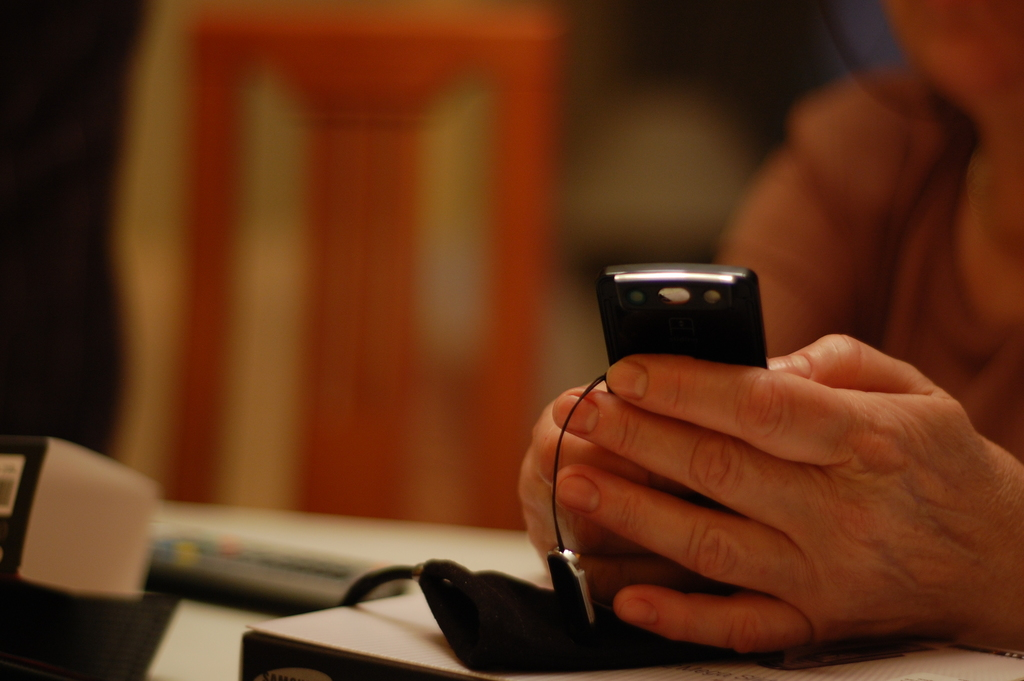Mobile-phone: (593, 269, 768, 393)
